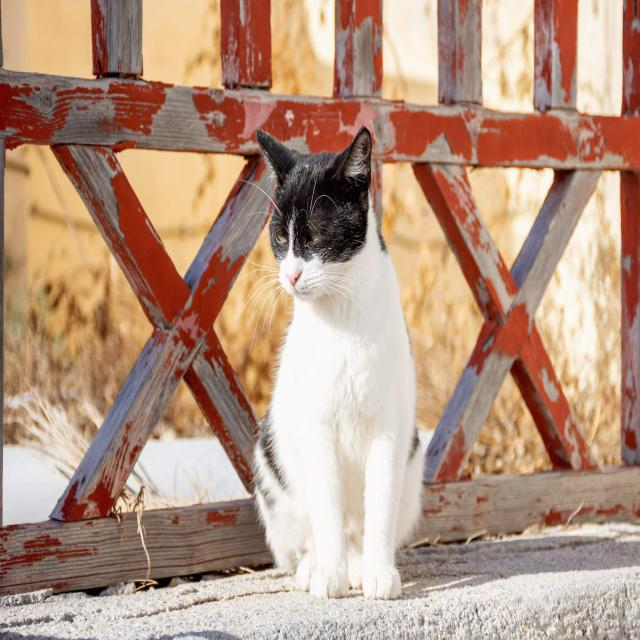cat: (255, 128, 424, 600)
